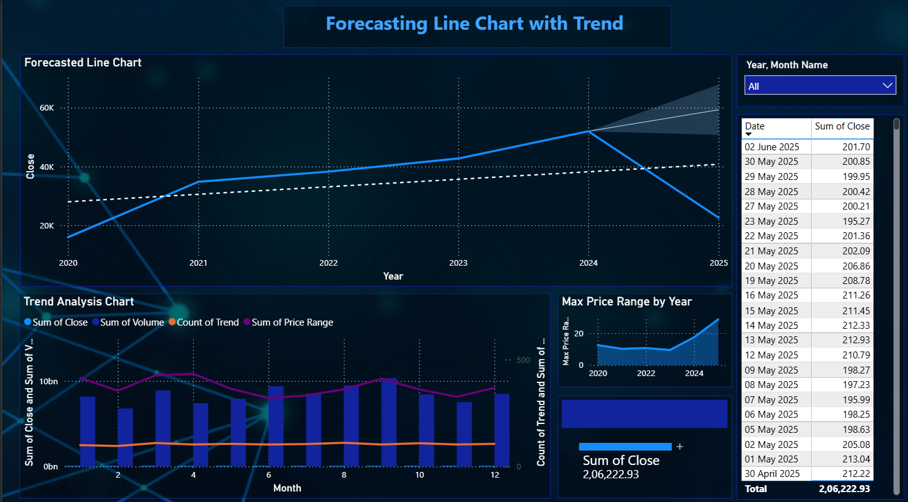

The dashboard page shown, as its layout file describes it:
{"tool":"powerbi","page":{"name":"  Forecasting Line Chart with Trend  ","canvas":[1280,720],"ordinal":1},"visuals":[{"type":"textbox","box":[396.9,10.9,547.7,60.3],"z":0},{"type":"lineChart","title":"Forecasted Line Chart","fields":{"Category":["AppleStockData.Date.Variation.Date Hierarchy.Year","AppleStockData.Date.Variation.Date Hierarchy.Quarter","AppleStockData.Date.Variation.Date Hierarchy.Month","AppleStockData.Date.Variation.Date Hierarchy.Day"],"Y":["Sum(AppleStockData.Close)"]},"box":[25.6,80.2,1005.8,327.9],"z":1000},{"type":"decompositionTreeVisual","title":"Decomposition Tree","fields":{"ExplainBy":["AppleStockData.Year","AppleStockData.Quarter","AppleStockData.Month","AppleStockData.Day Name"],"Analyze":["Sum(AppleStockData.Close)"]},"box":[784.9,562.6,246.1,144.8],"z":2000},{"type":"lineClusteredColumnComboChart","title":"Trend Analysis Chart","fields":{"Category":["AppleStockData.Month"],"Y":["Sum(AppleStockData.Close)","Sum(AppleStockData.Volume)"],"Y2":["CountNonNull(AppleStockData.Trend)","Sum(AppleStockData.Price Range)"]},"box":[24.8,417.9,750.4,289.5],"z":3000},{"type":"slicer","fields":{"Values":["AppleStockData.Year","AppleStockData.Month Name"]},"box":[1037.2,80.5,236.5,74.8],"z":4000},{"type":"tableEx","fields":{"Values":["AppleStockData.Date","Sum(AppleStockData.Close)"]},"box":[1037.2,165,236.5,544.1],"z":5000},{"type":"stackedAreaChart","fields":{"Category":["AppleStockData.Date.Variation.Date Hierarchy.Year"],"Y":["AppleStockData.Max Price Range"]},"box":[784.9,417.9,246.1,132.7],"z":6000}]}

Visuals, with their boxes in screenshot pixels (x1, y1, x2, y2), scaled from the page's 1280x720 canvas onto the 908x502 screenshot:
textbox: 282 8 670 50
"Forecasted Line Chart" lineChart: 18 56 732 285
"Decomposition Tree" decompositionTreeVisual: 557 392 731 493
"Trend Analysis Chart" lineClusteredColumnComboChart: 18 291 550 493
slicer - AppleStockData.Year x AppleStockData.Month Name: 736 56 904 108
tableEx - AppleStockData.Date x Sum(AppleStockData.Close): 736 115 904 494
stackedAreaChart - AppleStockData.Date.Variation.Date Hierarchy.Year x AppleStockData.Max Price Range: 557 291 731 384
